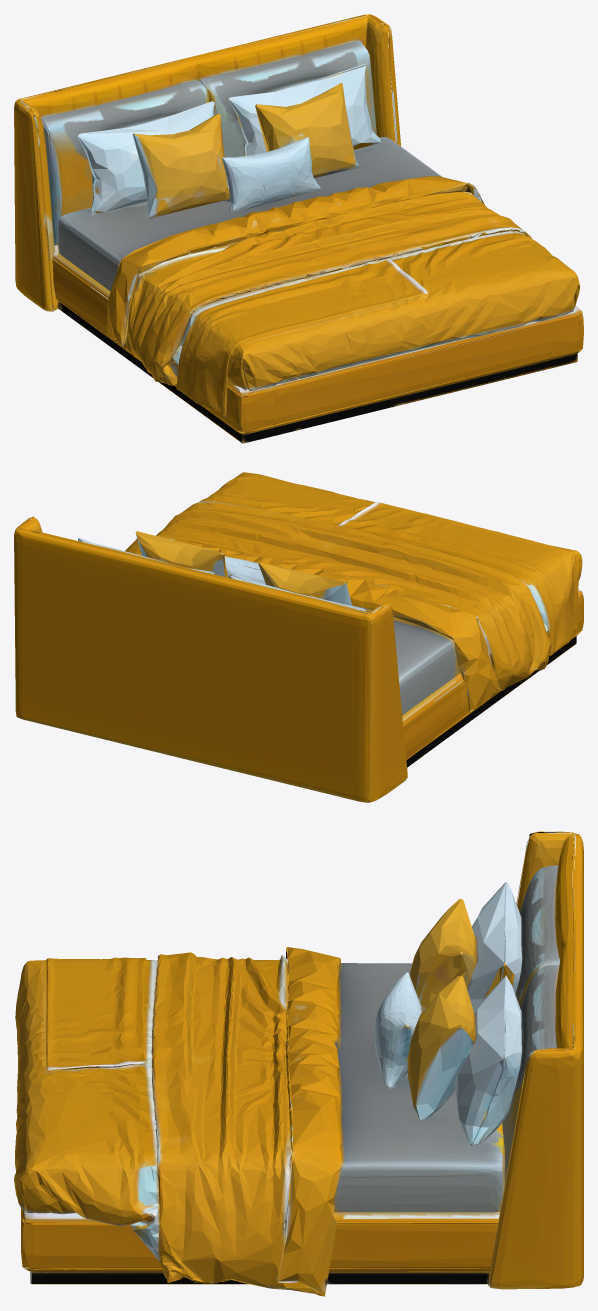
File: edited_mesh.glb
3 renders of one model, top to bottom at view 1: azimuth 30°, elevation 25°; view 2: azimuth 150°, elevation 25°; view 3: azimuth 270°, elevation 25°, orthographic. The views are drawn at different scales.
Visible parts, largest first — view 1: solid_001_wire; view 2: solid_001_wire; view 3: solid_001_wire.
Part boxes in pixels (x1,y1,x2,y2): solid_001_wire: (14,14,583,443); solid_001_wire: (14,472,583,802); solid_001_wire: (14,831,583,1296).
Bounding box in the file's own units: 2 × 0.9449 × 1.97.
Materials: 1 (1 with a texture image).
